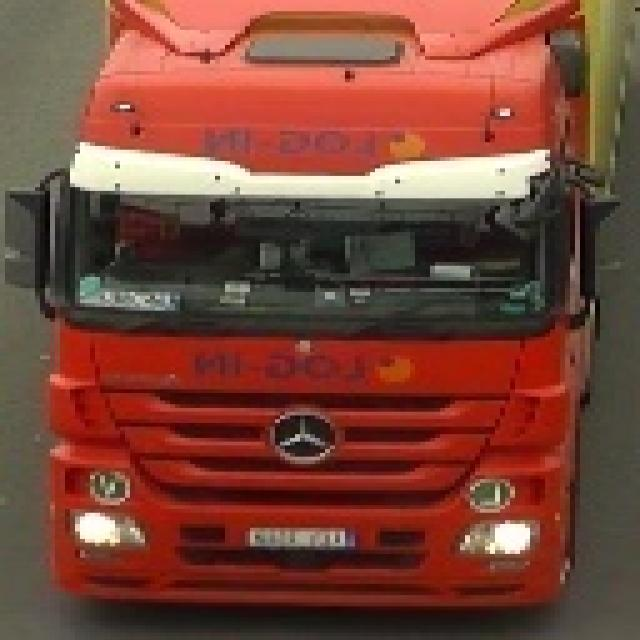truck: (0, 0, 605, 606)
